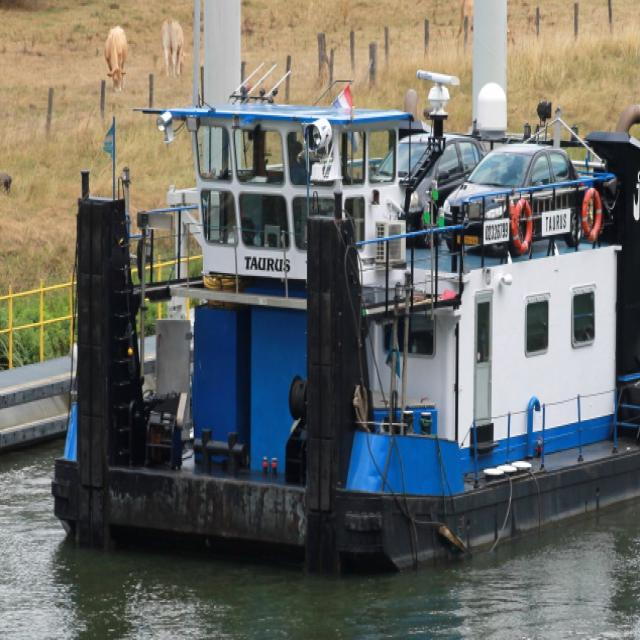tugboat: (46, 59, 640, 588)
